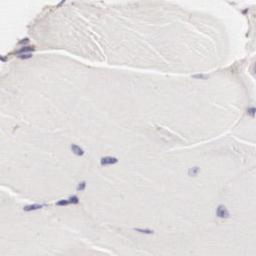nucleus: (216, 203, 230, 217), (71, 142, 84, 156), (100, 155, 118, 165), (135, 227, 154, 234), (188, 165, 200, 176), (23, 204, 41, 211), (191, 73, 209, 80), (247, 107, 256, 118), (77, 180, 86, 191), (56, 198, 69, 205), (69, 194, 79, 203), (17, 37, 29, 44), (18, 54, 33, 59), (241, 7, 249, 15), (17, 47, 28, 52), (56, 1, 65, 7), (1, 55, 6, 62)
positive_cell: (10, 46, 37, 53)
